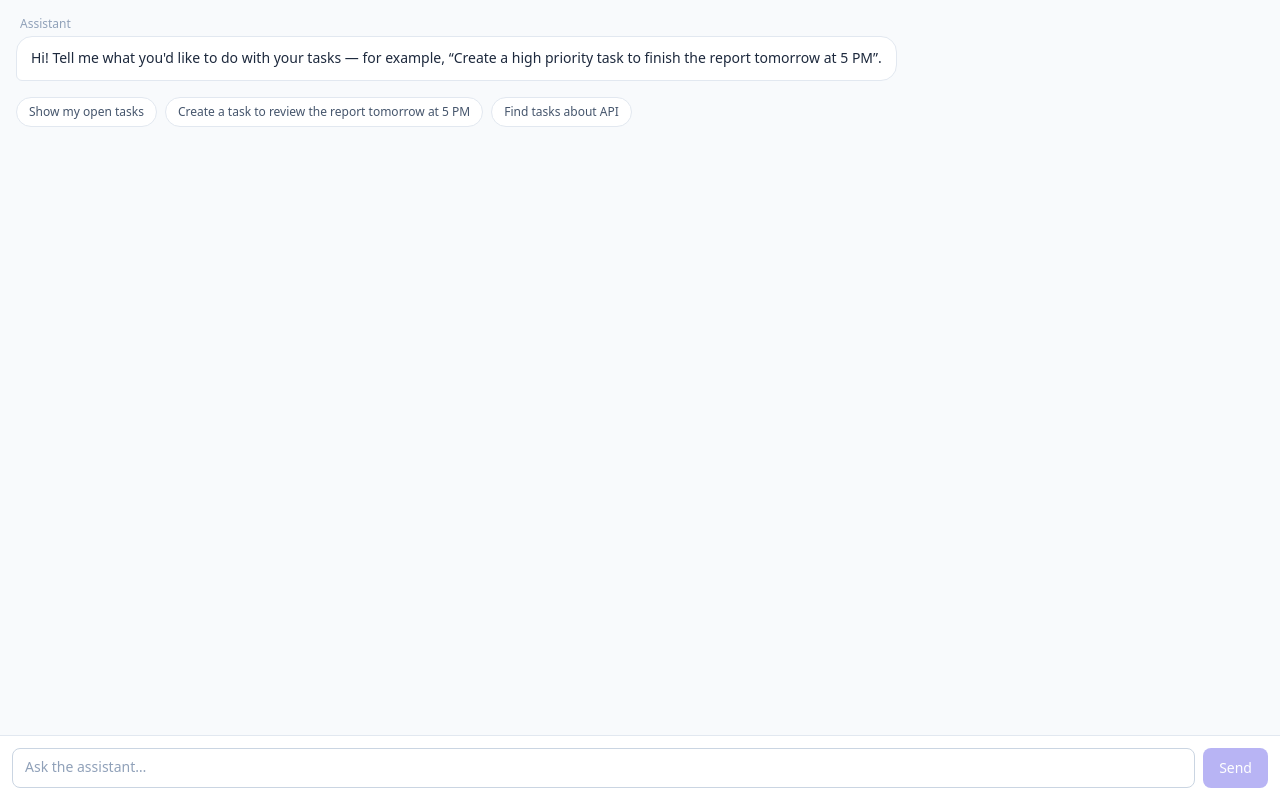
Test: thread id › still works when localStorage is unavailable, using one id for the whole session
This screenshot has width=1280, height=800.
Step 1. Type "Create a task called demo" into the text box named "Message the assistant" → (604, 768), box [12, 748, 1195, 788]
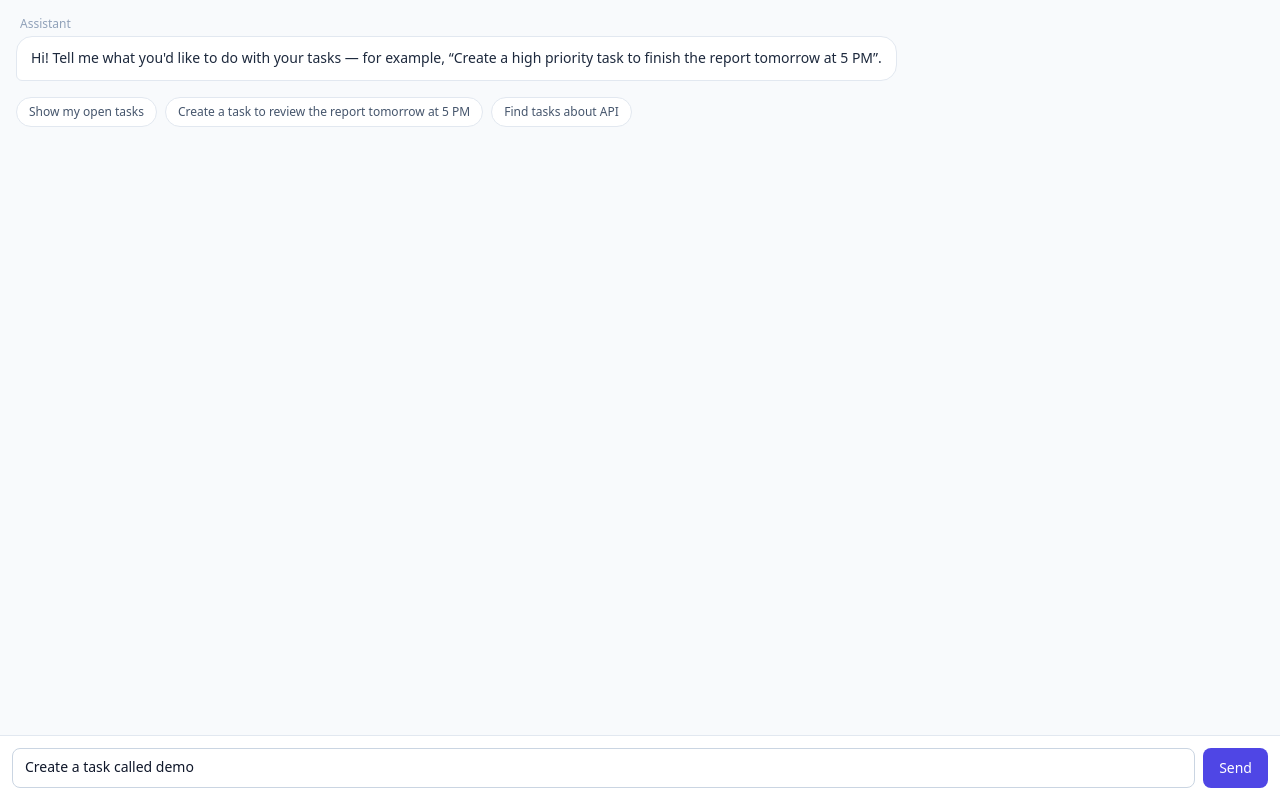
Step 2. Click the button "Send" → (1236, 768), box [1203, 748, 1268, 788]
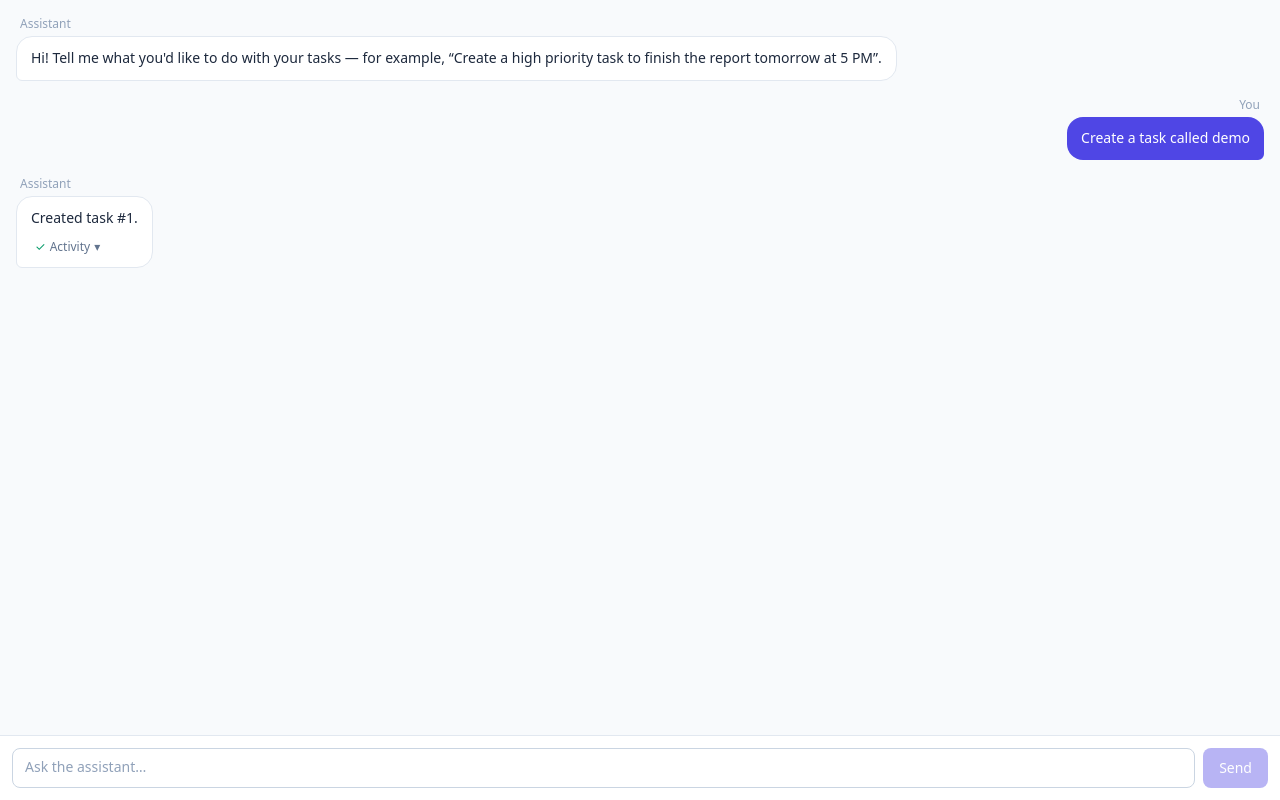
Now the text "Created task #1." is shown, box [31, 208, 138, 226]
